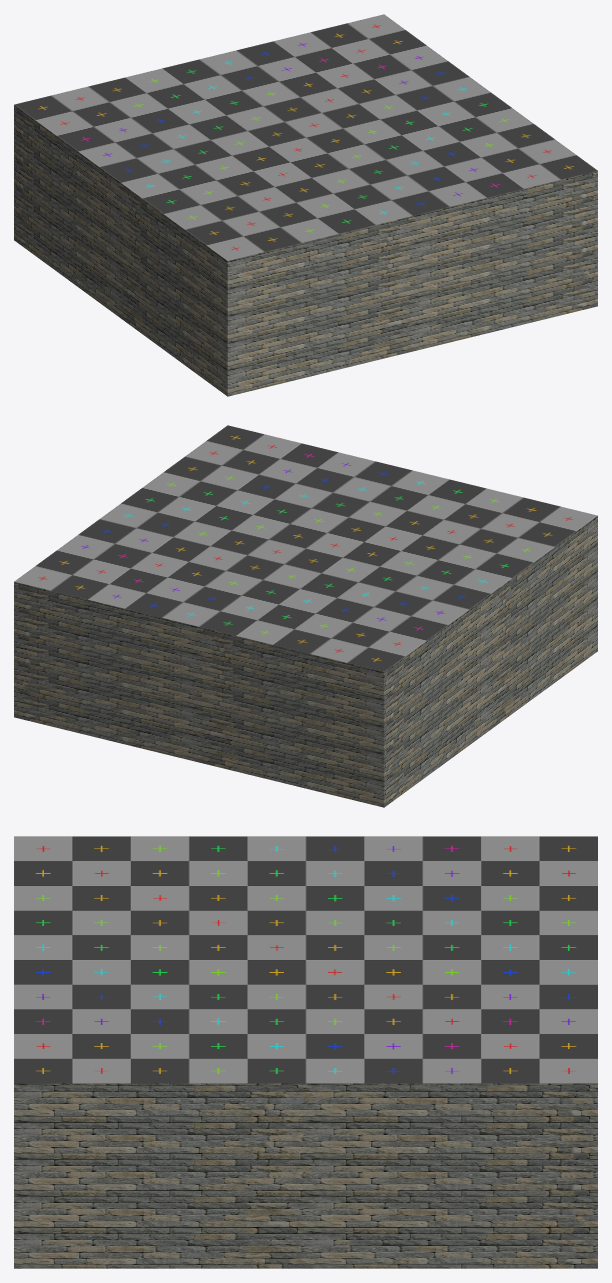
The model's file is TestRoom.fbx.
3 views of the same model, one above another, from view 1: azimuth 30°, elevation 25°; view 2: azimuth 150°, elevation 25°; view 3: azimuth 270°, elevation 25° (orthographic). The views are drawn at different scales.
Visible parts, largest first — view 1: Room.001; view 2: Room.001; view 3: Room.001.
Part boxes in pixels (bbox=[...]): Room.001: bbox=[14, 14, 597, 396]; Room.001: bbox=[14, 425, 597, 807]; Room.001: bbox=[14, 836, 597, 1268].
Size of the model in its own units: 10 by 3.6 by 10.
4 materials, 3 textured.
